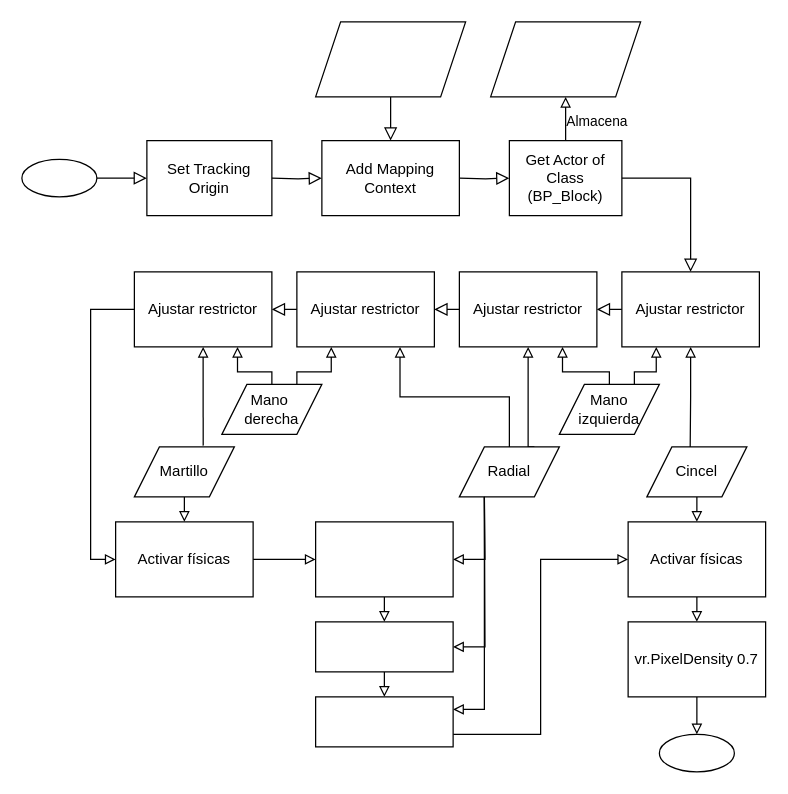
Some shapes in this 788 by 794 pixel diagram are drawn without their labels. Here are the shapes that lost their labels. From the top down, the centre of each, then its label:
At point (390, 59): "Gatillo Derecho".
At point (565, 59): "Bloque".
At point (59, 177): "Start".
At point (383, 559): "Desactivar físicas".
At point (383, 646): "Desactivar visibildad".
At point (383, 721): "Desactivar funciones".
At point (696, 752): "End".
